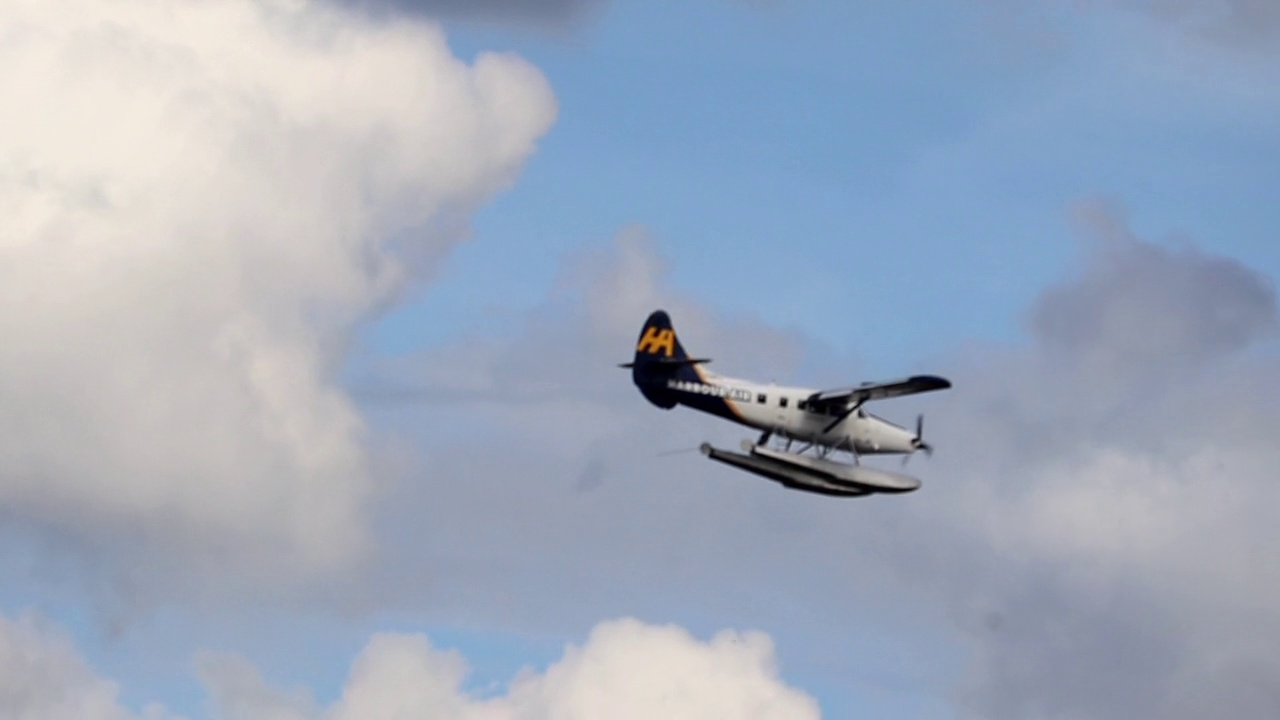plane: (620, 310, 952, 497)
